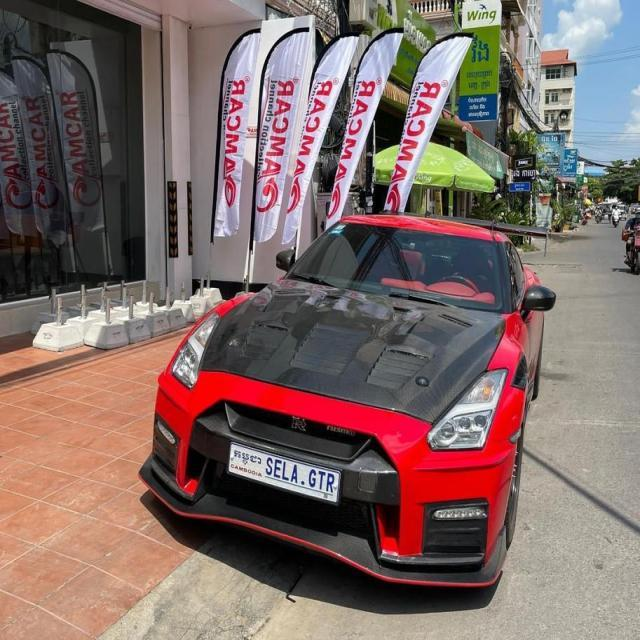Cambodia: (234, 449, 262, 467)
